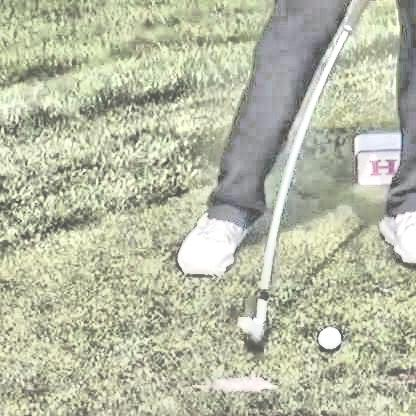golfball: (315, 324, 337, 349)
